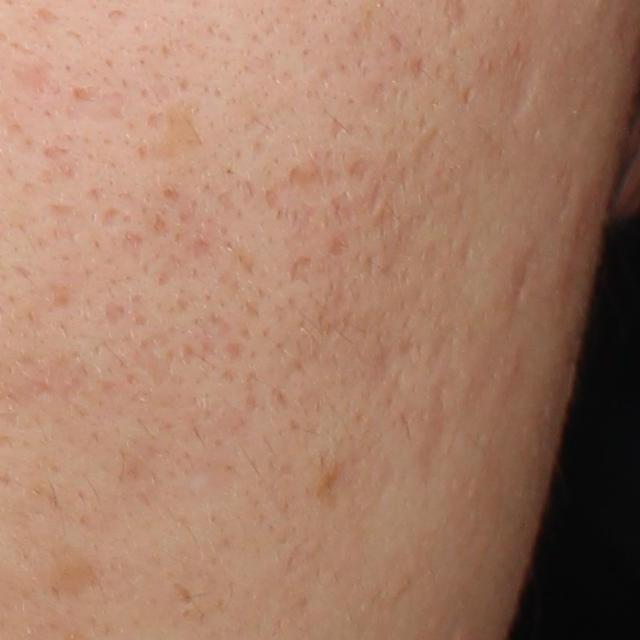atrophic_scar: (135, 106, 213, 165), (375, 149, 416, 238), (418, 378, 452, 481), (312, 261, 354, 340), (503, 57, 545, 125), (505, 238, 539, 318), (413, 126, 446, 193), (14, 56, 59, 99), (289, 165, 347, 189), (97, 200, 135, 232), (121, 229, 146, 270), (101, 298, 129, 330), (325, 230, 352, 258), (289, 254, 313, 285), (72, 84, 104, 105), (349, 155, 371, 183), (369, 177, 385, 215), (328, 116, 348, 142), (460, 82, 479, 107), (408, 58, 426, 81), (263, 189, 280, 213), (388, 33, 405, 53)
